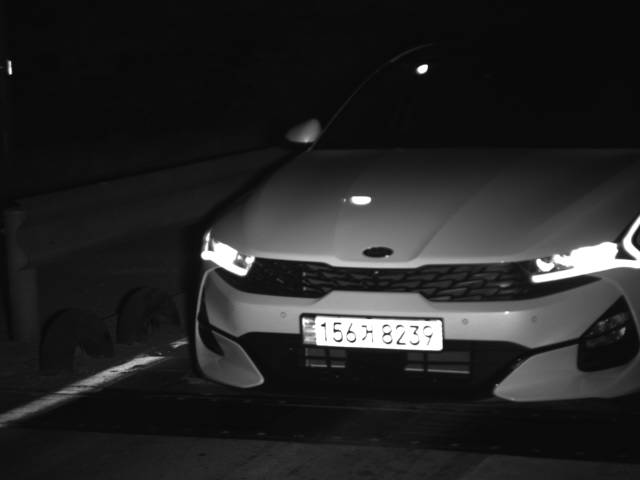car: (186, 25, 637, 410)
plate: (299, 314, 445, 351)
